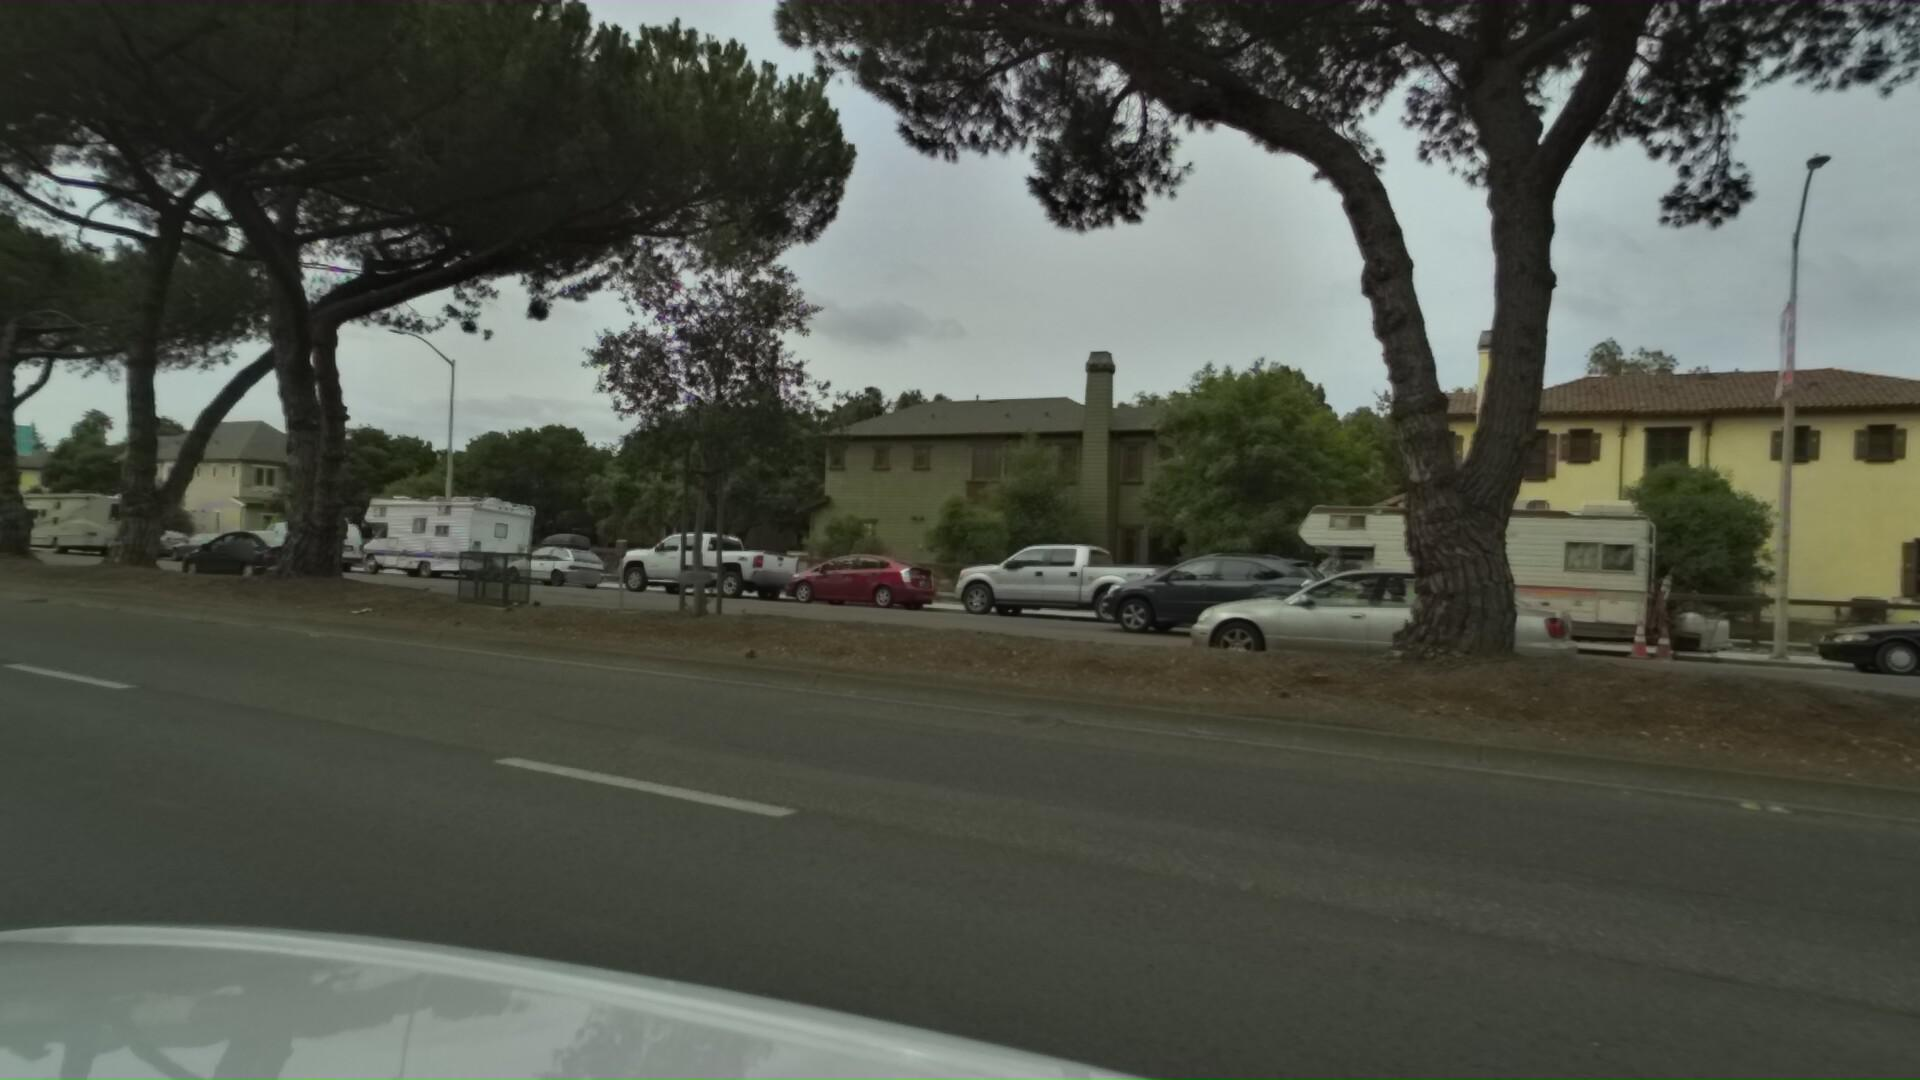car: (1084, 553, 1464, 702), (915, 537, 1168, 634), (1022, 545, 1261, 641), (1753, 587, 1920, 700), (591, 527, 793, 605), (754, 549, 924, 615), (150, 527, 316, 593), (228, 518, 361, 576), (477, 531, 600, 591), (152, 531, 256, 568), (91, 529, 198, 564)
other_vehicle: (1236, 493, 1705, 673), (342, 495, 531, 587), (0, 487, 153, 560), (0, 484, 54, 559)
